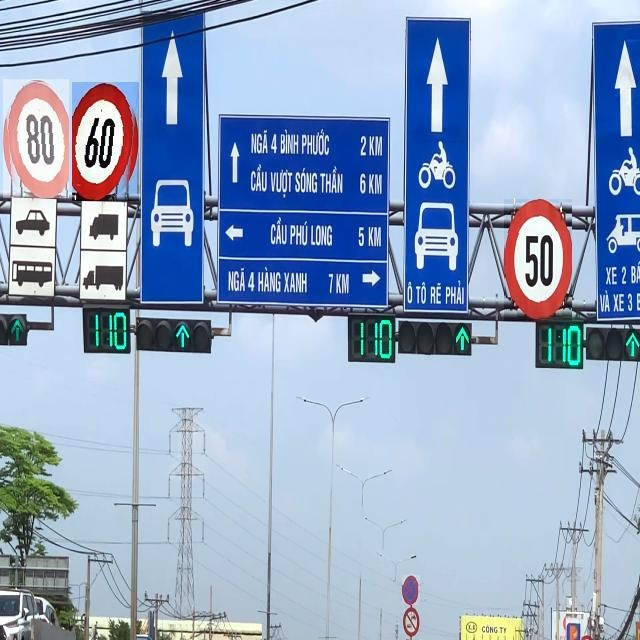bien_cam: (504, 199, 572, 321), (72, 82, 139, 201), (3, 79, 69, 198), (402, 575, 420, 605)
